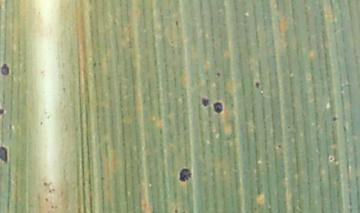tarspot: (178, 167, 191, 182), (212, 101, 223, 114), (1, 63, 11, 76), (1, 145, 8, 163), (200, 97, 210, 107), (254, 79, 261, 90), (173, 18, 180, 27), (215, 69, 222, 77), (328, 154, 334, 162), (276, 142, 282, 149), (331, 115, 337, 122), (286, 123, 292, 130), (1, 106, 5, 115), (92, 61, 98, 67), (43, 181, 48, 188), (44, 197, 49, 203), (100, 175, 105, 181), (39, 121, 44, 126), (48, 189, 53, 193), (50, 204, 54, 209), (174, 207, 177, 213)
